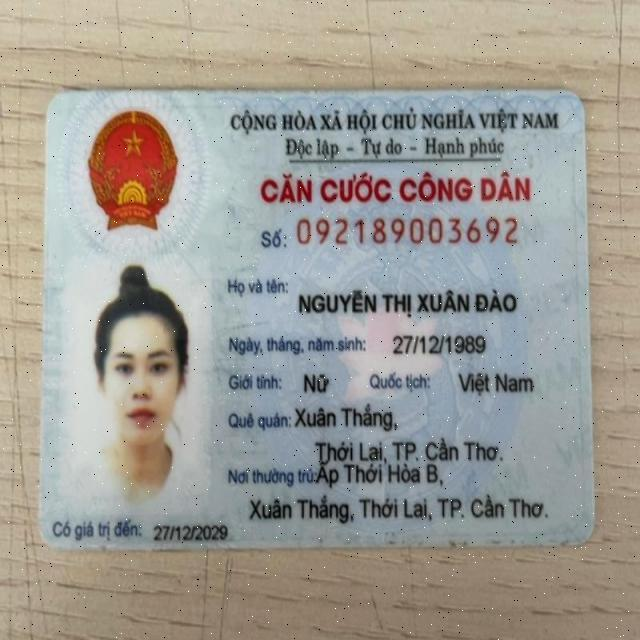current_place: (247, 491, 550, 527), (314, 465, 445, 490)
dob: (392, 330, 490, 361)
expire_date: (151, 521, 228, 543)
gender: (301, 370, 334, 399)
id: (291, 213, 522, 253)
name: (294, 287, 520, 319)
nationality: (455, 368, 536, 395)
origin_place: (314, 434, 506, 469), (292, 403, 398, 435)
